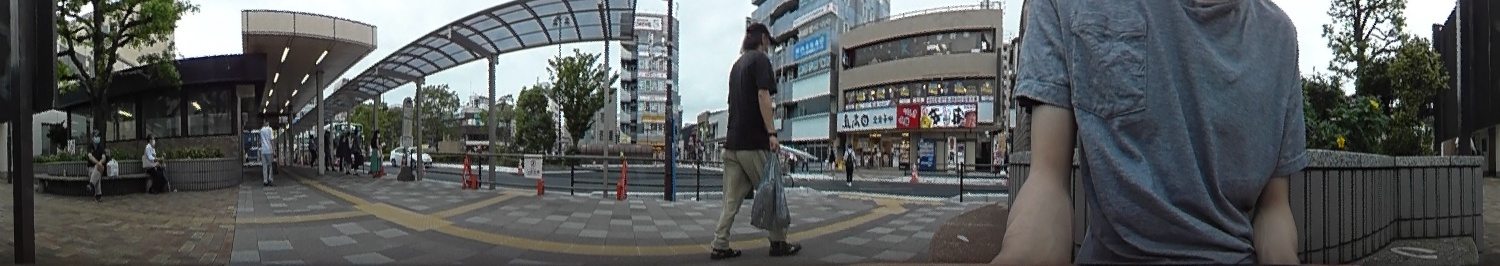difficult_person: (369, 128, 382, 176), (842, 143, 855, 185), (351, 130, 363, 171), (343, 128, 353, 169), (307, 133, 317, 166), (826, 141, 837, 170)
person: (714, 23, 792, 254), (143, 135, 168, 195), (85, 130, 108, 195), (257, 118, 276, 184)
